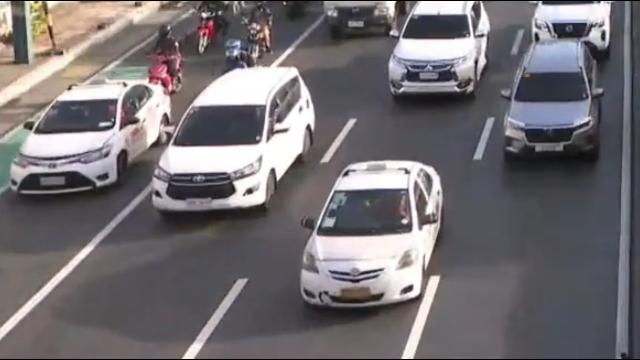car: (149, 60, 320, 213), (295, 159, 447, 313), (7, 77, 176, 195), (501, 37, 609, 167), (385, 0, 498, 102), (528, 0, 616, 55), (321, 0, 411, 36)
motorcycle: (145, 26, 183, 101), (239, 2, 275, 65), (193, 0, 232, 57)
